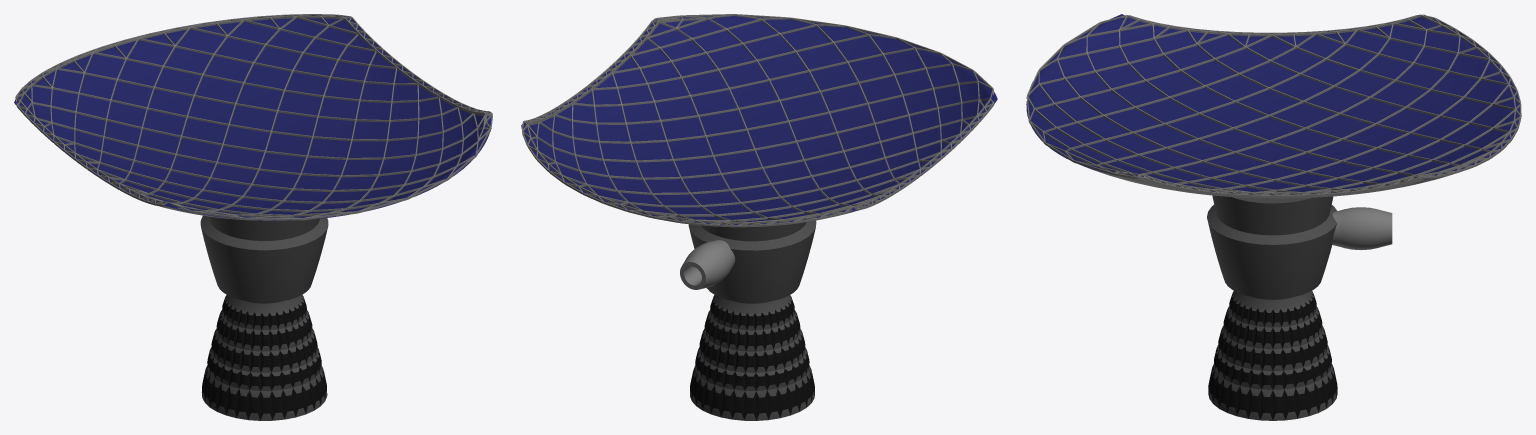
File: panel.fbx
3 renders of one model, left to right at view 1: azimuth 30°, elevation 25°; view 2: azimuth 150°, elevation 25°; view 3: azimuth 270°, elevation 25°, orthographic. The views are drawn at different scales.
Parts seen in each view (by area): view 1: Cylinder.002, Cylinder; view 2: Cylinder.002, Cylinder; view 3: Cylinder.002, Cylinder.
Boxes of the visible parts, <box> form: Cylinder.002: <box>14,14,492,220</box>; Cylinder: <box>200,215,328,420</box>; Cylinder.002: <box>521,14,997,227</box>; Cylinder: <box>680,220,816,420</box>; Cylinder.002: <box>1026,14,1521,198</box>; Cylinder: <box>1207,195,1392,420</box>.
Size of the model in its own units: 333 by 271 by 407.
